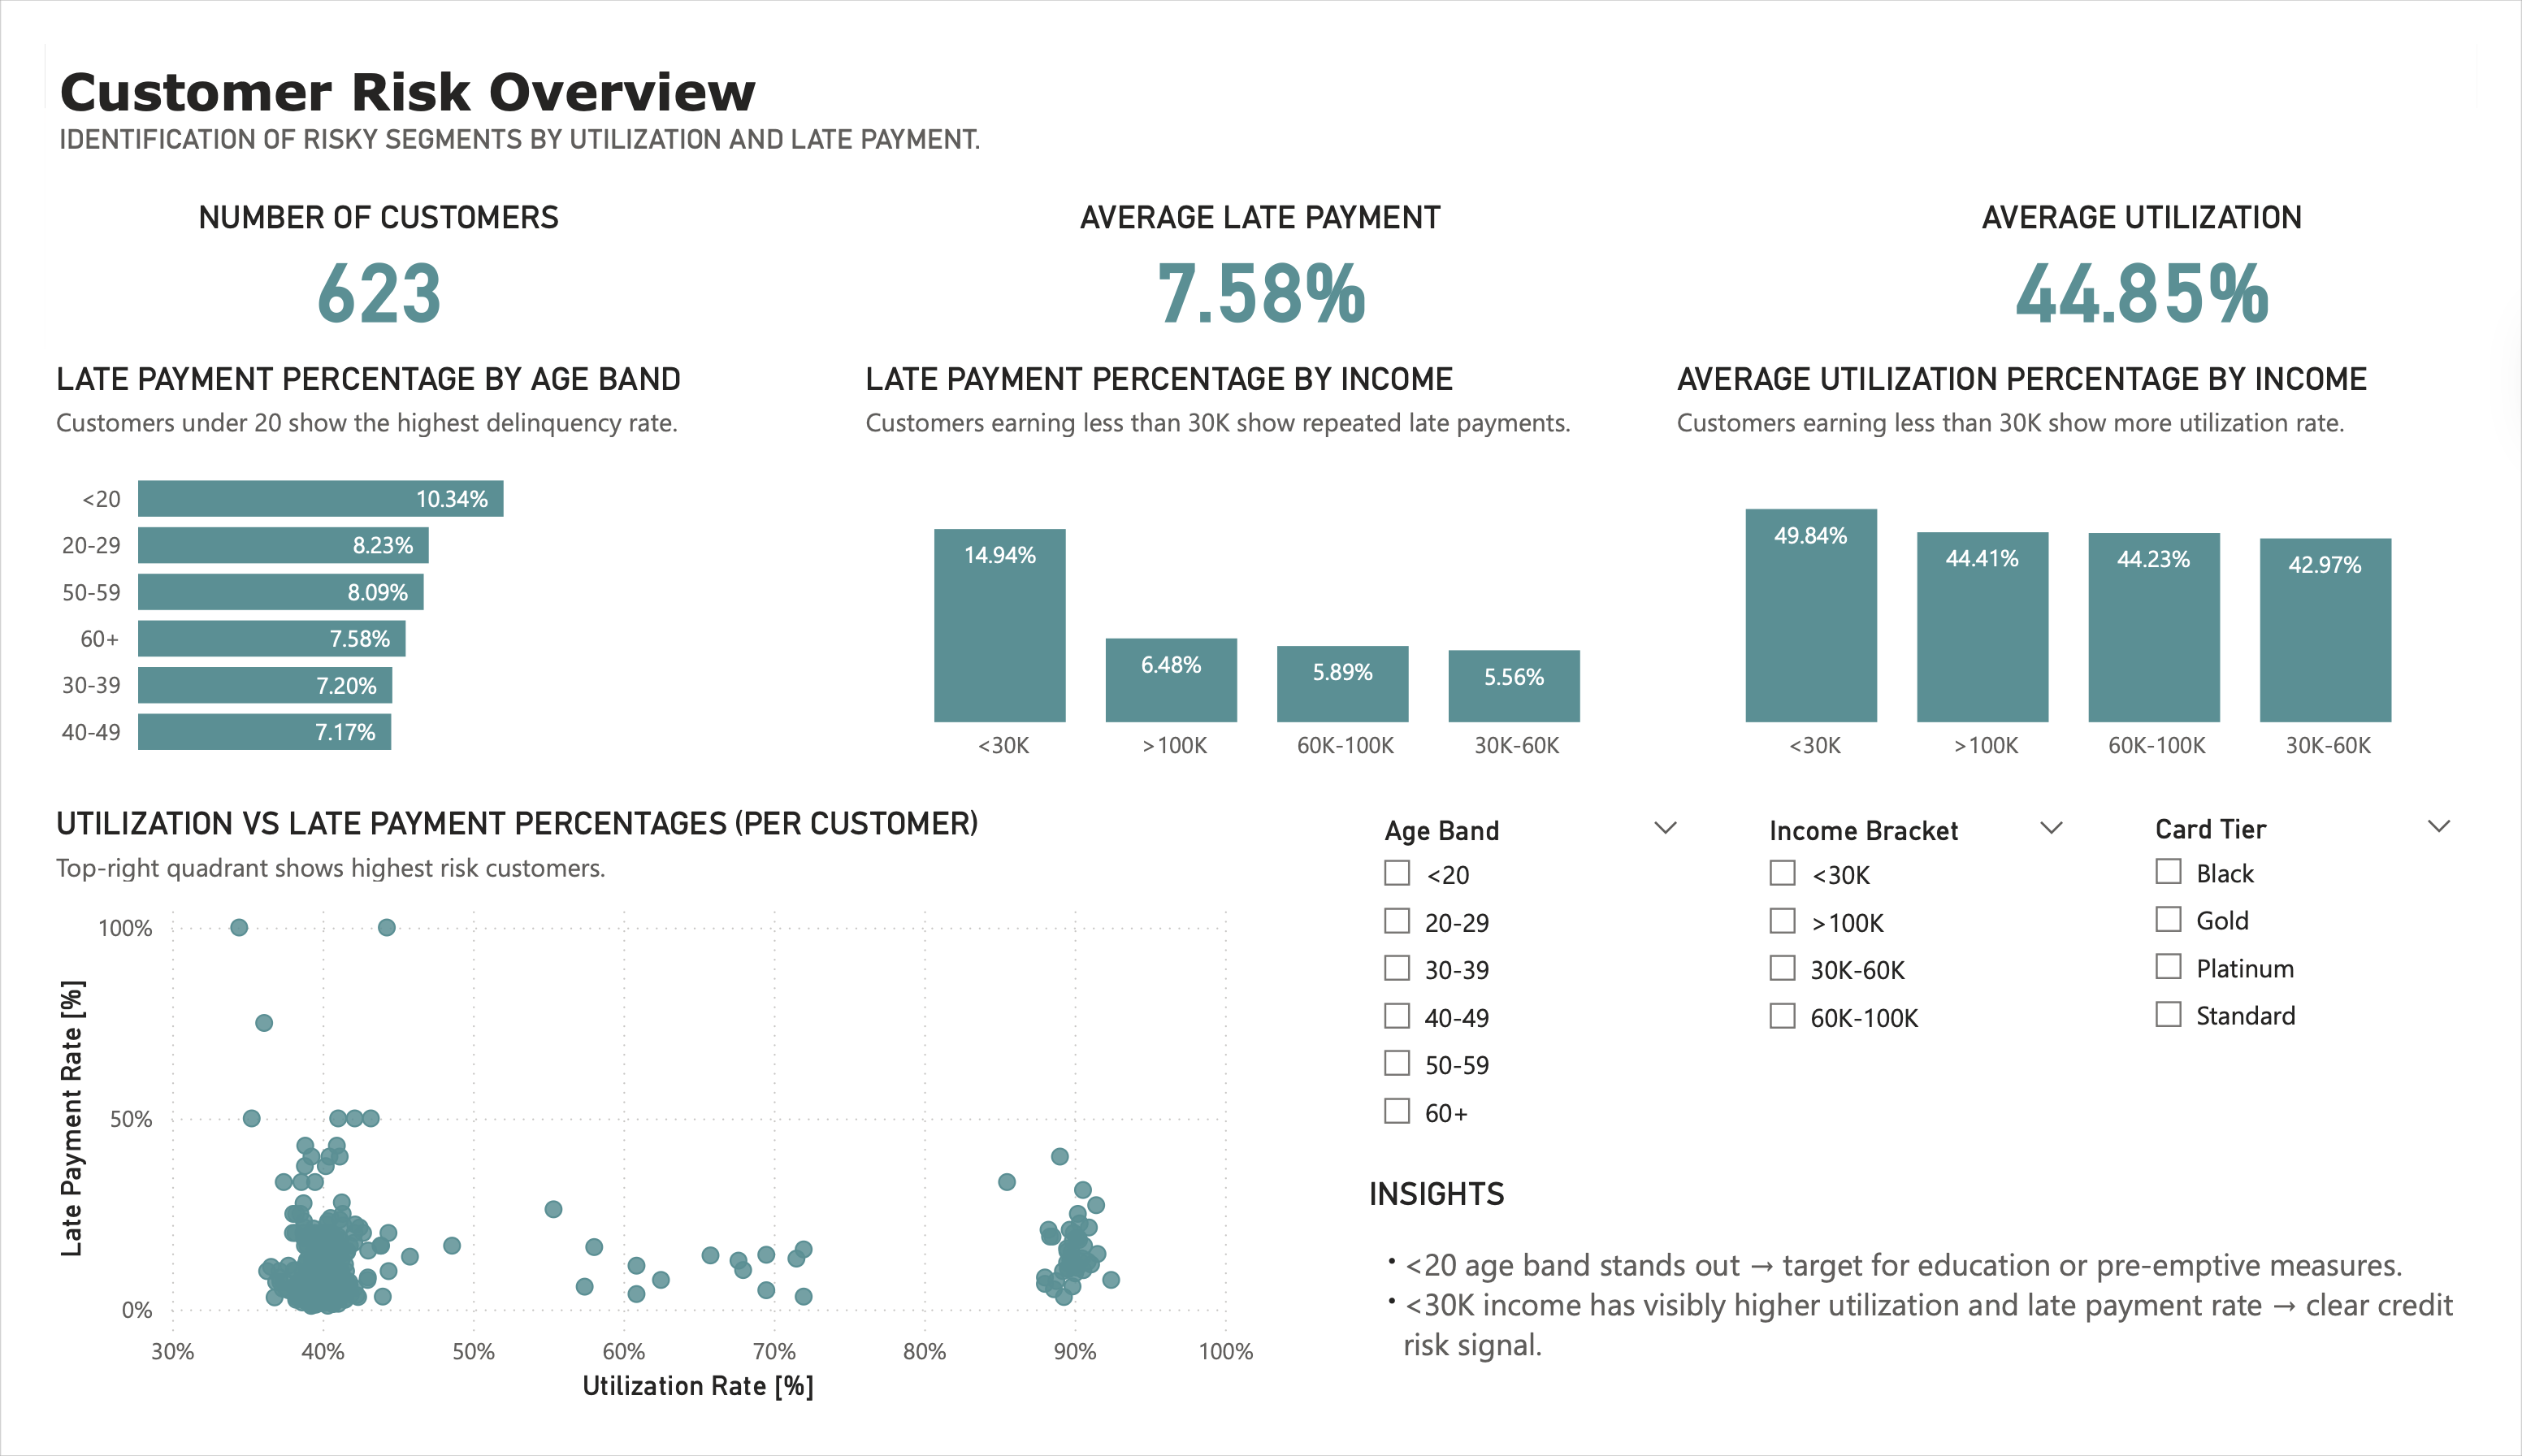

The page's visual inventory and layout, read from the dashboard file:
{"tool":"powerbi","page":{"name":"Customer Risk Overview","canvas":[1280,720],"ordinal":0},"visuals":[{"type":"card","title":"NUMBER OF CUSTOMERS","fields":{"Values":["Count(public v_customer_risk_summary.customer_id)"]},"box":[1,80.7,350.2,72],"z":0},{"type":"card","title":"AVERAGE LATE PAYMENT","fields":{"Values":["v_customer_risk_summary.Late Payment %"]},"box":[464.9,80.7,350.2,72],"z":1000},{"type":"card","title":"AVERAGE UTILIZATION","fields":{"Values":["v_customer_risk_summary.Average Utilization"]},"box":[928.9,80.7,350.2,72],"z":2000},{"type":"clusteredColumnChart","title":"LATE PAYMENT PERCENTAGE BY INCOME","fields":{"Category":["v_customer_risk_summary.income_bracket"],"Y":["v_customer_risk_summary.Late Payment %"]},"box":[427,166.3,425,220.8],"z":3000},{"type":"barChart","title":"LATE PAYMENT PERCENTAGE BY AGE BAND","fields":{"Category":["v_customer_risk_summary.age_band"],"Y":["v_customer_risk_summary.Late Payment %"]},"box":[1,166.3,425,220.8],"z":4000},{"type":"scatterChart","title":"UTILIZATION VS LATE PAYMENT PERCENTAGES (PER CUSTOMER)","fields":{"X":["CustomerSummary.avg_utilization"],"Y":["CustomerSummary.late_rate"]},"box":[1,399.8,640,319],"z":5000},{"type":"textbox","box":[2.9,2.9,567.1,65.2],"z":6000},{"type":"clusteredColumnChart","title":"AVERAGE UTILIZATION PERCENTAGE BY INCOME","fields":{"Y":["v_customer_risk_summary.Average Utilization"],"Category":["v_customer_risk_summary.income_bracket"]},"box":[854,166.3,425,220.8],"z":7000},{"type":"textbox","box":[692,590,587,129],"z":8000},{"type":"slicer","fields":{"Values":["v_customer_risk_summary.age_band"]},"box":[692,401,180,178],"z":9000},{"type":"slicer","fields":{"Values":["v_customer_risk_summary.income_bracket"]},"box":[895,401,180,178],"z":10000},{"type":"slicer","fields":{"Values":["v_customer_risk_summary.card_tier"]},"box":[1098,400,181,179],"z":11000}]}

Visuals, with their boxes in screenshot pixels (x1, y1, x2, y2), scaled from the page's 1280x720 canvas onto the 2522x1456 screenshot:
"NUMBER OF CUSTOMERS" card: x1=2, y1=163, x2=692, y2=309
"AVERAGE LATE PAYMENT" card: x1=916, y1=163, x2=1606, y2=309
"AVERAGE UTILIZATION" card: x1=1831, y1=163, x2=2520, y2=309
"LATE PAYMENT PERCENTAGE BY INCOME" clusteredColumnChart: x1=841, y1=336, x2=1679, y2=782
"LATE PAYMENT PERCENTAGE BY AGE BAND" barChart: x1=2, y1=336, x2=839, y2=782
"UTILIZATION VS LATE PAYMENT PERCENTAGES (PER CUSTOMER)" scatterChart: x1=2, y1=808, x2=1263, y2=1454
textbox: x1=6, y1=6, x2=1123, y2=137
"AVERAGE UTILIZATION PERCENTAGE BY INCOME" clusteredColumnChart: x1=1683, y1=336, x2=2520, y2=782
textbox: x1=1363, y1=1193, x2=2520, y2=1454
slicer - v_customer_risk_summary.age_band: x1=1363, y1=811, x2=1718, y2=1171
slicer - v_customer_risk_summary.income_bracket: x1=1763, y1=811, x2=2118, y2=1171
slicer - v_customer_risk_summary.card_tier: x1=2164, y1=809, x2=2520, y2=1171
